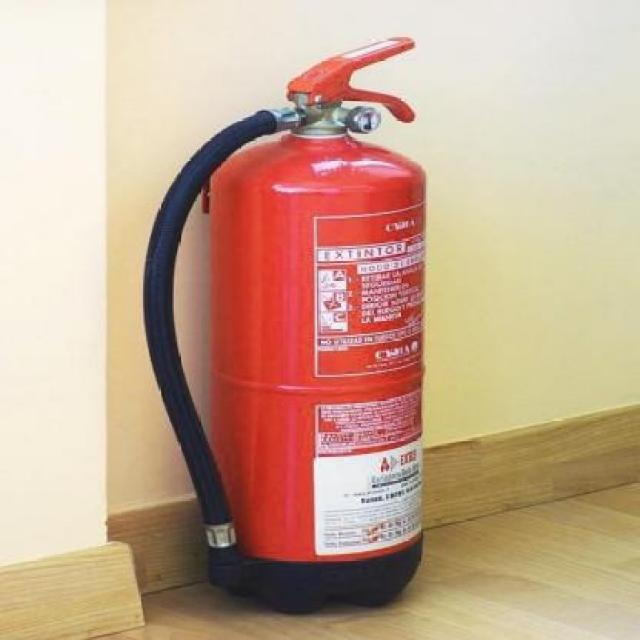fire extinguisher: (142, 37, 426, 615)
